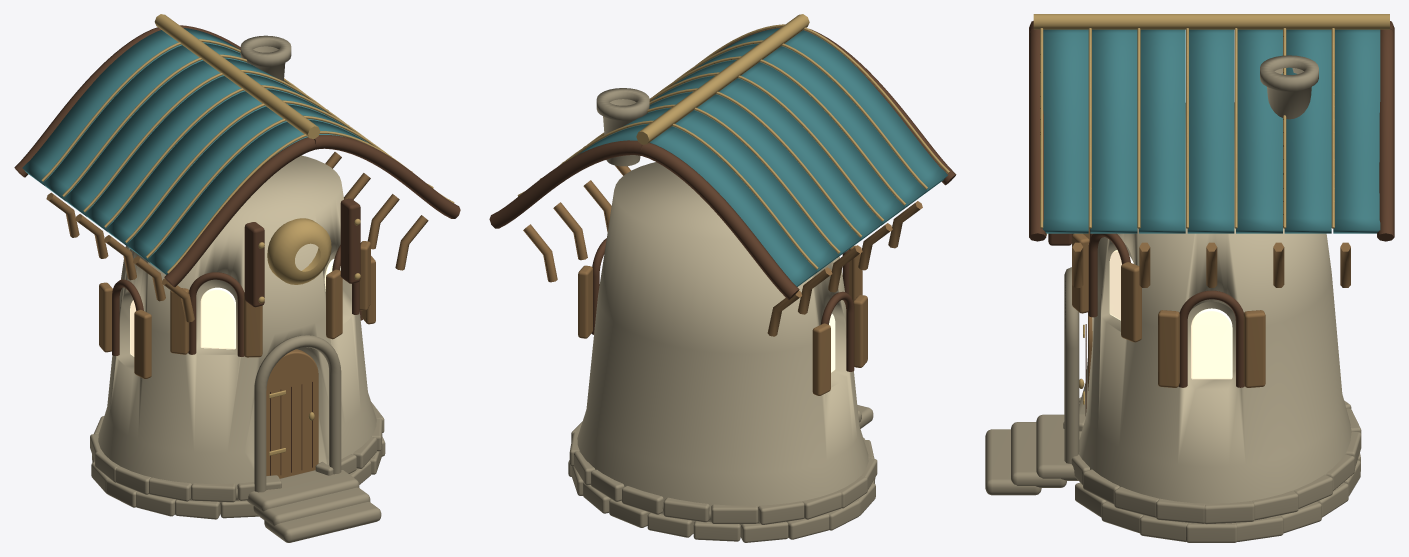
Rendered from windmill_atelier.glb.
The picture shows the model from 3 angles, left to right: view 1: azimuth 30°, elevation 25°; view 2: azimuth 150°, elevation 25°; view 3: azimuth 270°, elevation 25°; orthographic projection. The views are drawn at different scales.
Parts seen in each view (by area): view 1: windmill_atelier__TaggedPainted_Mill_Matte, windmill_atelier__Painted_Mill_Glaze, windmill_atelier__Painted_Mill_Metal, windmill_atelier__Painted_Mill_Glow; view 2: windmill_atelier__TaggedPainted_Mill_Matte, windmill_atelier__Painted_Mill_Glaze, windmill_atelier__Painted_Mill_Metal; view 3: windmill_atelier__TaggedPainted_Mill_Matte, windmill_atelier__Painted_Mill_Glaze, windmill_atelier__Painted_Mill_Metal, windmill_atelier__Painted_Mill_Glow.
Boxes of the visible parts, bbox=[...] form: windmill_atelier__TaggedPainted_Mill_Matte: bbox=[14, 25, 460, 542]; windmill_atelier__Painted_Mill_Glaze: bbox=[22, 28, 367, 274]; windmill_atelier__Painted_Mill_Metal: bbox=[41, 14, 454, 455]; windmill_atelier__Painted_Mill_Glow: bbox=[130, 259, 340, 356]; windmill_atelier__TaggedPainted_Mill_Matte: bbox=[489, 27, 956, 542]; windmill_atelier__Painted_Mill_Glaze: bbox=[578, 28, 947, 286]; windmill_atelier__Painted_Mill_Metal: bbox=[517, 14, 949, 269]; windmill_atelier__TaggedPainted_Mill_Matte: bbox=[985, 21, 1394, 542]; windmill_atelier__Painted_Mill_Glaze: bbox=[1043, 29, 1380, 233]; windmill_atelier__Painted_Mill_Metal: bbox=[1033, 14, 1389, 404]; windmill_atelier__Painted_Mill_Glow: bbox=[1109, 250, 1232, 379].
Size of the model in its own units: 2.94 by 3.76 by 3.06.
